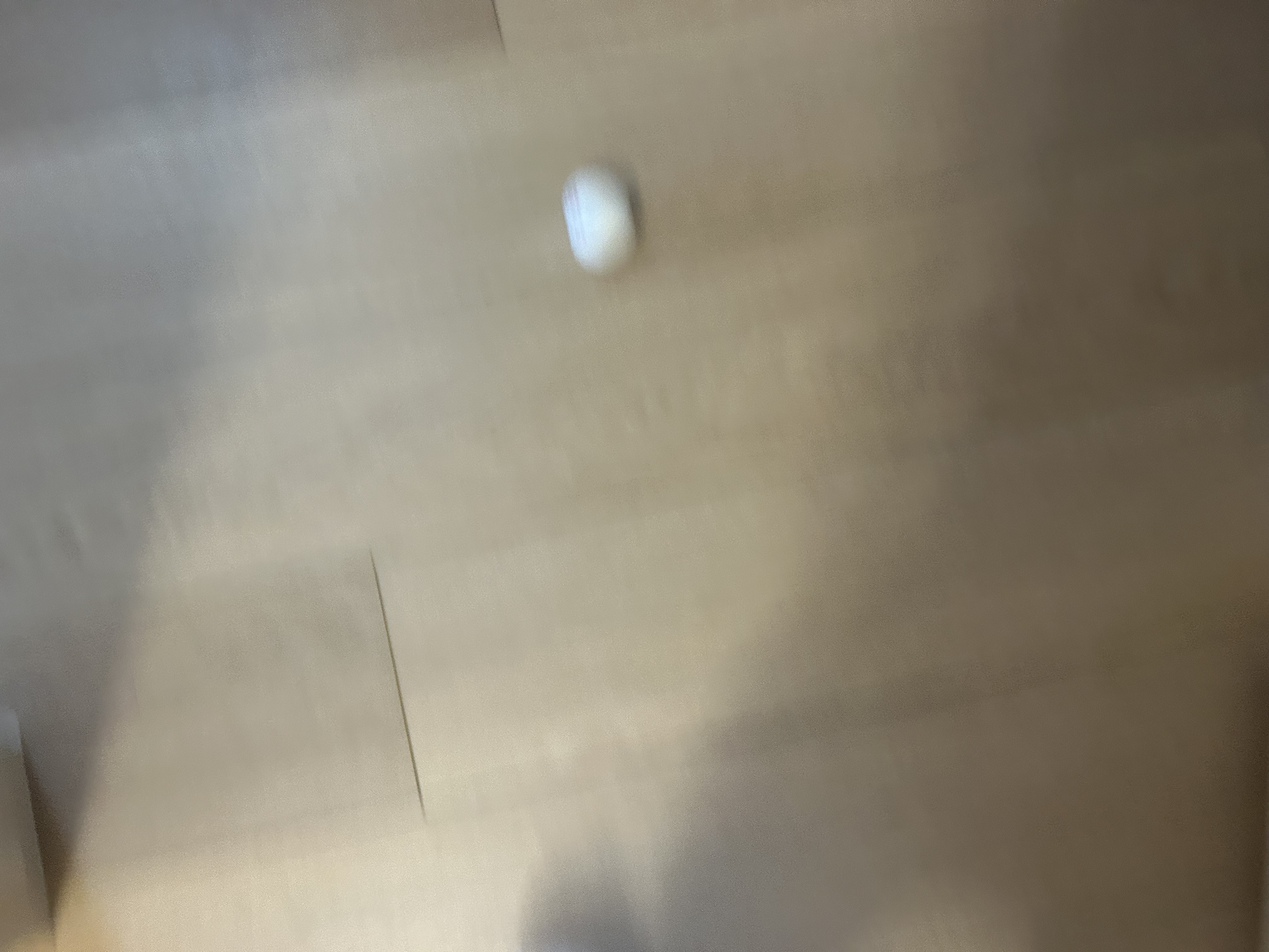Ball: (560, 172, 636, 267)
